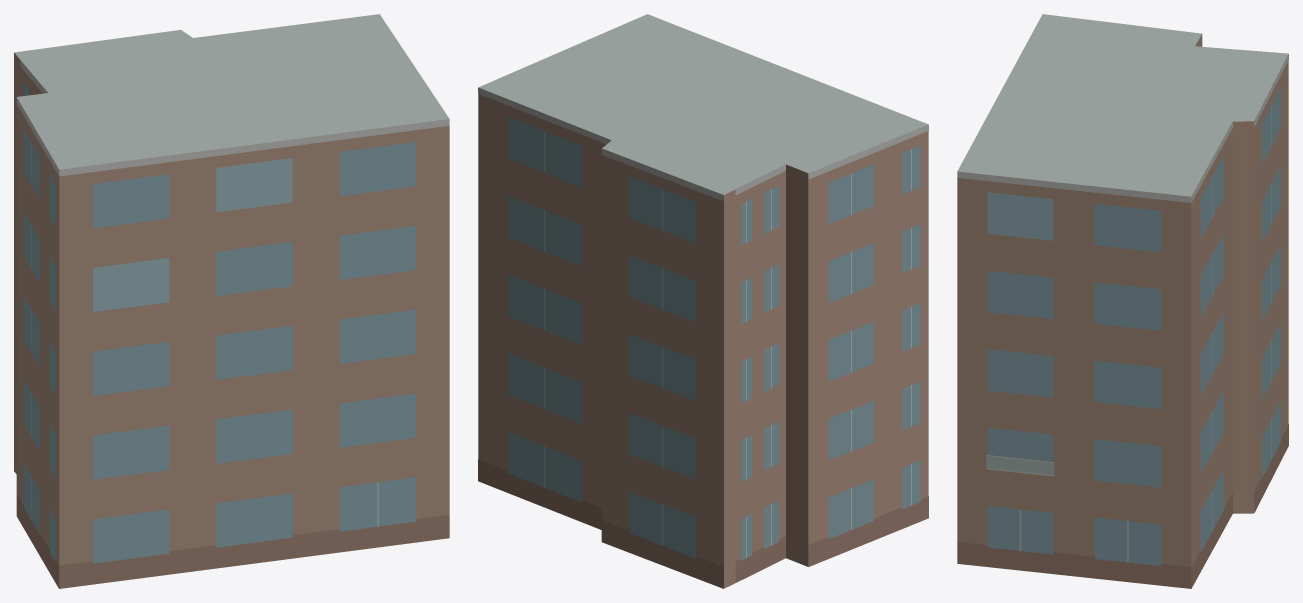
The model's file is survey-upis-32663074.glb.
The picture shows the model from 3 angles, left to right: view 1: azimuth 30°, elevation 25°; view 2: azimuth 150°, elevation 25°; view 3: azimuth 270°, elevation 25°; orthographic projection. The views are drawn at different scales.
Visible parts, largest first — view 1: survey-upis-32663074.tmp; view 2: survey-upis-32663074.tmp; view 3: survey-upis-32663074.tmp.
Part boxes in pixels (box(x1,y1,x2,y2)): survey-upis-32663074.tmp: box(14, 14, 449, 588); survey-upis-32663074.tmp: box(478, 14, 928, 588); survey-upis-32663074.tmp: box(957, 14, 1288, 588).
Size of the model in its own units: 15.2 by 15.2 by 11.66.
